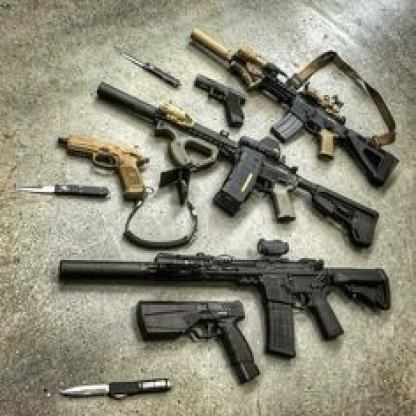Gun: (97, 80, 381, 251), (56, 238, 394, 360), (191, 27, 401, 190)
Knife: (58, 378, 172, 402), (122, 50, 183, 89), (19, 180, 109, 202)
Pistol: (135, 298, 263, 386), (53, 133, 151, 203), (193, 72, 247, 129)
